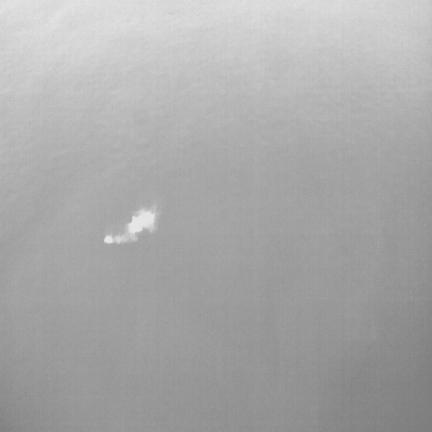flukeprints: (104, 208, 156, 241)
